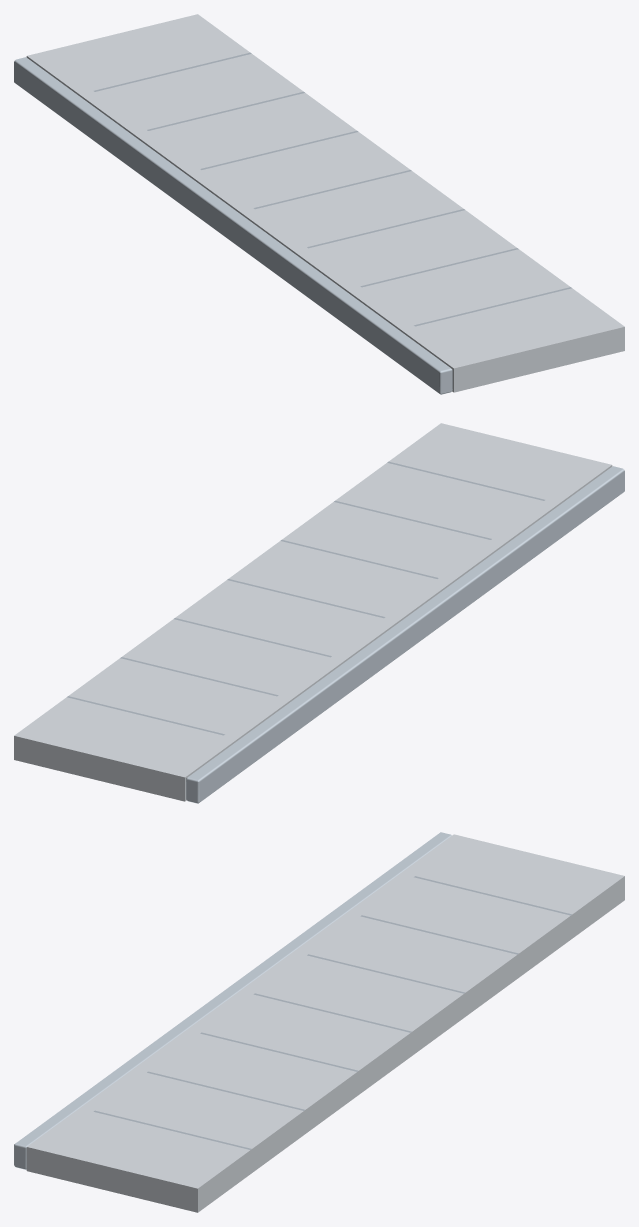
The model's file is CM_Sidewalk_Straight.fbx.
The picture shows the model from 3 angles, top to bottom: view 1: azimuth 30°, elevation 25°; view 2: azimuth 150°, elevation 25°; view 3: azimuth 330°, elevation 25°; orthographic projection.
Parts seen in each view (by area): view 1: Sidewalk; view 2: Sidewalk; view 3: Sidewalk.
Boxes of the visible parts, <box> form: Sidewalk: <box>14,14,624,394</box>; Sidewalk: <box>14,423,624,803</box>; Sidewalk: <box>14,832,624,1212</box>.
Bounding box in the file's own units: 8 × 32 × 1.
1 material, 1 textured.
